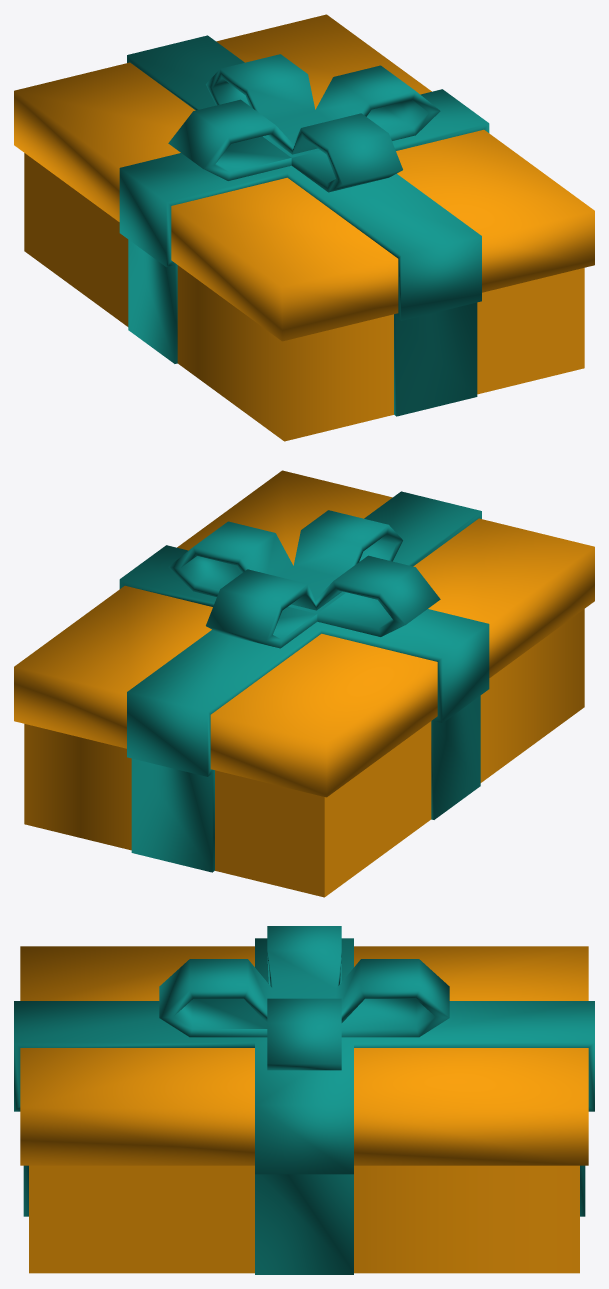
The model's file is 3a0c0ea2-48ba-41a8-98ac-e9118eb9aca6.glb.
3 views of the same model, one above another, from view 1: azimuth 30°, elevation 25°; view 2: azimuth 150°, elevation 25°; view 3: azimuth 270°, elevation 25° (orthographic). The views are drawn at different scales.
Parts seen in each view (by area): view 1: Giftbox2, Bow2; view 2: Giftbox2, Bow2; view 3: Giftbox2, Bow2.
Boxes of the visible parts, bbox=[...] form: Giftbox2: bbox=[14, 14, 594, 441]; Bow2: bbox=[168, 54, 440, 192]; Giftbox2: bbox=[14, 470, 594, 897]; Bow2: bbox=[168, 510, 440, 648]; Giftbox2: bbox=[14, 938, 594, 1274]; Bow2: bbox=[159, 926, 449, 1070].
Size of the model in its own units: 0.4303 by 0.2658 by 0.6329.
Materials: 1 (1 with a texture image).
